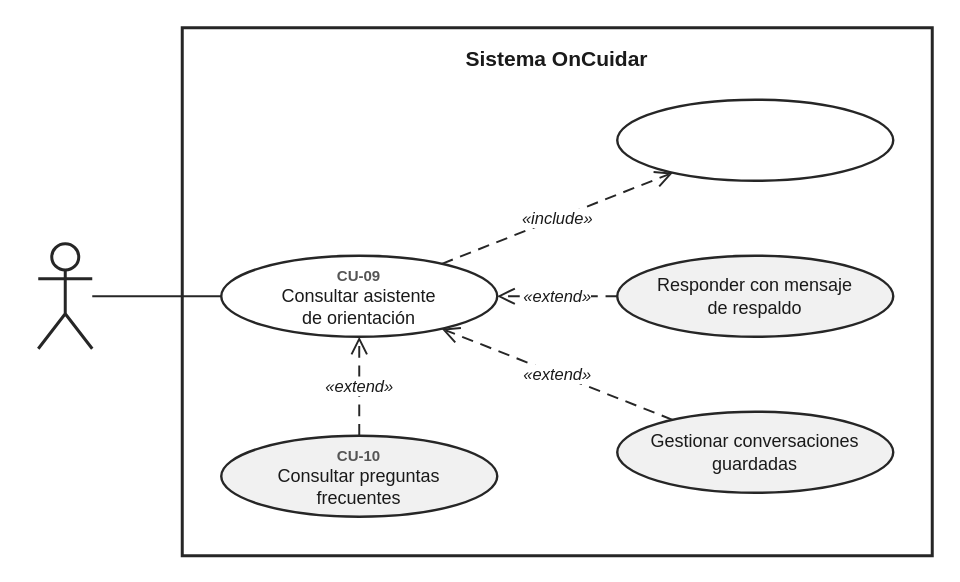
Image size: 960x582. Some labels were removed from this diagram. The centre of each missing label's shape, as x and y in pixels:
"Buscar pregunta por palabras clave" goes at [754,139].
"Cuidador principal" goes at [64,296].
